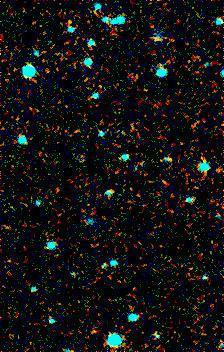star: (55, 7, 85, 37)
